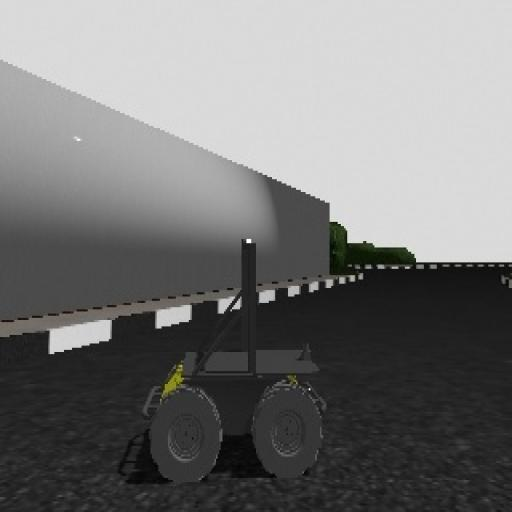huskya200: (118, 240, 336, 485)
